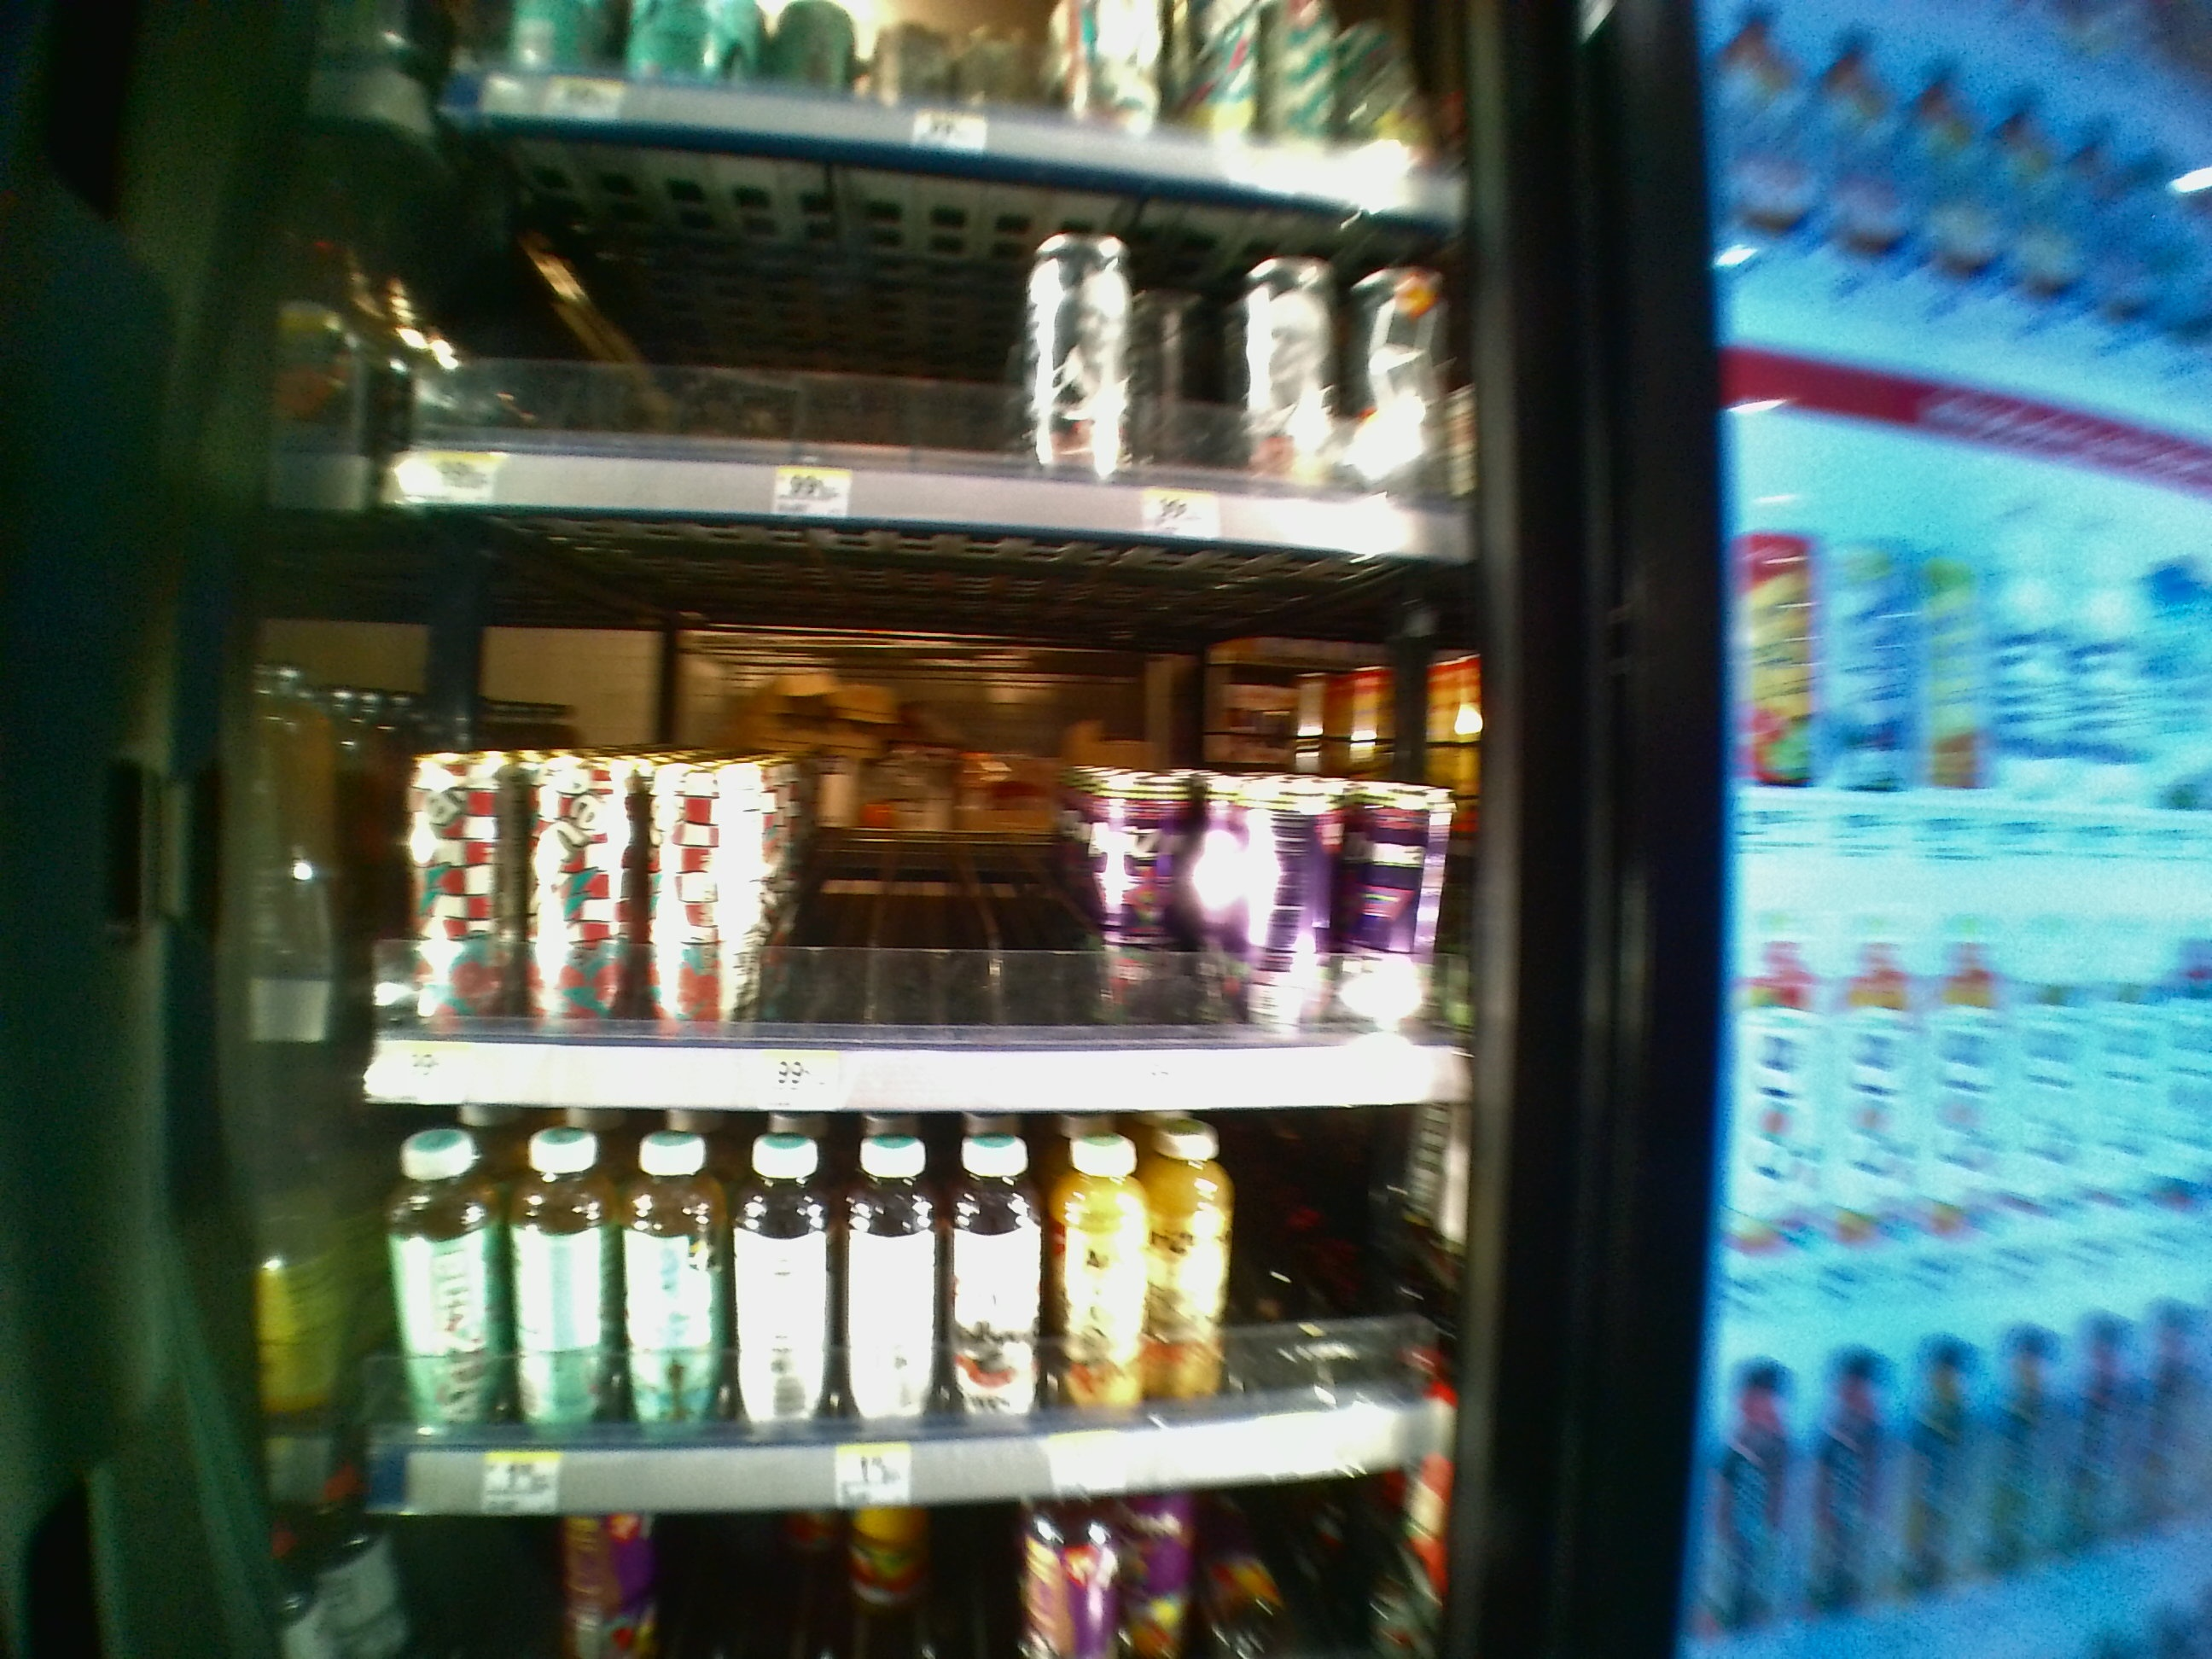shelf: (361, 511, 1468, 1105), (366, 1119, 1460, 1527)
